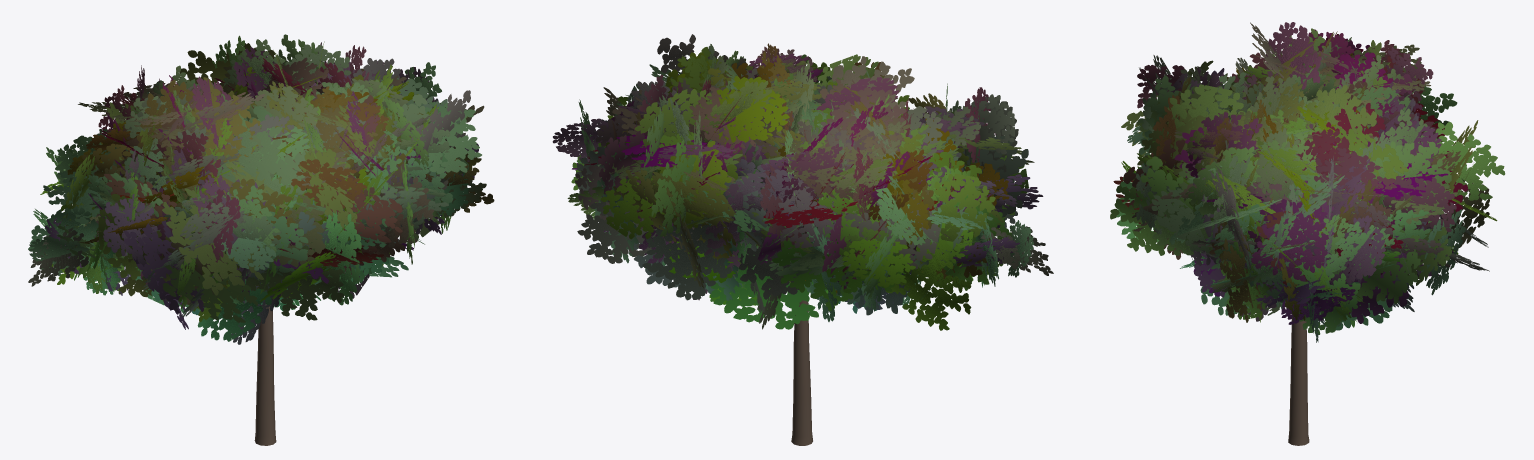
File: tree_small_broadleaf_v4_full_c.glb
3 renders of one model, left to right at view 1: azimuth 30°, elevation 25°; view 2: azimuth 150°, elevation 25°; view 3: azimuth 270°, elevation 25°, orthographic.
Parts seen in each view (by area): view 1: SmallBroadleafV4Full_low_broad_Foliage_15HierarchicalGroups, SmallBroadleafV4Full_low_broad_Trunk_Stylized; view 2: SmallBroadleafV4Full_low_broad_Foliage_15HierarchicalGroups, SmallBroadleafV4Full_low_broad_Trunk_Stylized; view 3: SmallBroadleafV4Full_low_broad_Foliage_15HierarchicalGroups, SmallBroadleafV4Full_low_broad_Trunk_Stylized.
Part boxes in pixels (x1=…): SmallBroadleafV4Full_low_broad_Foliage_15HierarchicalGroups: x1=28, y1=34, x2=494, y2=344; SmallBroadleafV4Full_low_broad_Trunk_Stylized: x1=254, y1=304, x2=276, y2=445; SmallBroadleafV4Full_low_broad_Foliage_15HierarchicalGroups: x1=552, y1=34, x2=1053, y2=330; SmallBroadleafV4Full_low_broad_Trunk_Stylized: x1=791, y1=300, x2=812, y2=445; SmallBroadleafV4Full_low_broad_Foliage_15HierarchicalGroups: x1=1110, y1=22, x2=1505, y2=342; SmallBroadleafV4Full_low_broad_Trunk_Stylized: x1=1288, y1=314, x2=1309, y2=445.
Size of the model in its own units: 7.27 by 5.65 by 5.65.
2 materials, 1 textured.
